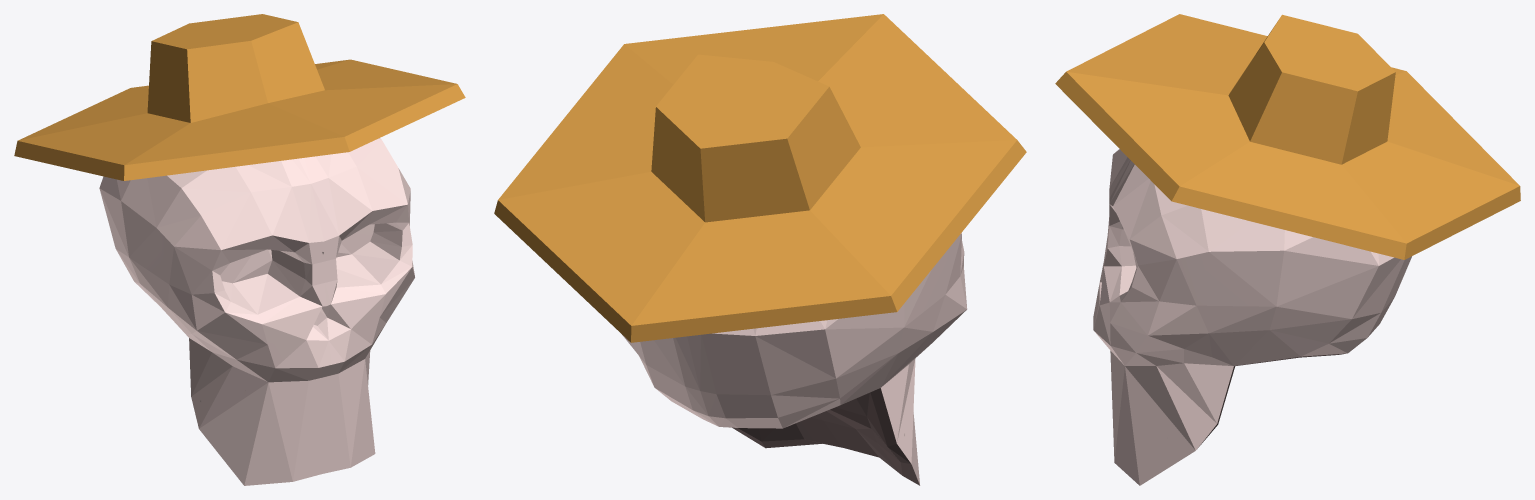
The model's file is zeca.fbx.
3 views of the same model, side by side, from view 1: azimuth 30°, elevation 25°; view 2: azimuth 150°, elevation 25°; view 3: azimuth 270°, elevation 25° (orthographic). The views are drawn at different scales.
Parts seen in each view (by area): view 1: Plane; view 2: Plane; view 3: Plane.
Boxes of the visible parts, box(x1,y1,x2,y2) form: Plane: box(14, 14, 465, 485); Plane: box(494, 14, 1026, 485); Plane: box(1055, 14, 1520, 485).
Size of the model in its own units: 211 by 228 by 234.
